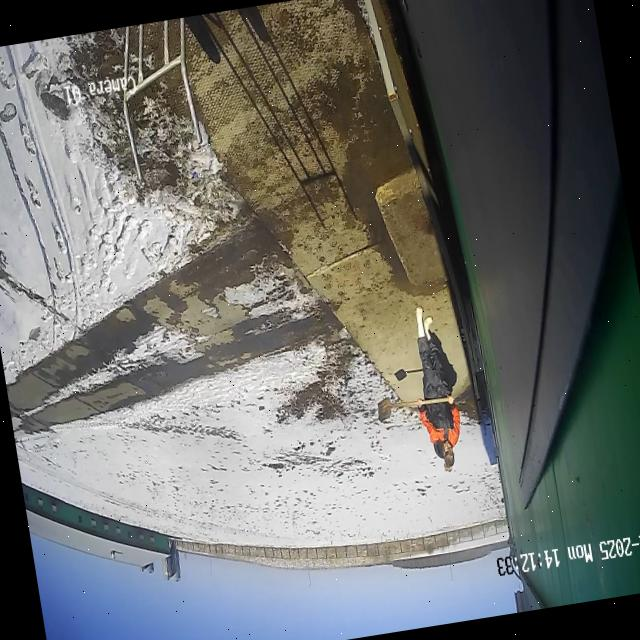Red uniform: (400, 299, 470, 472)
